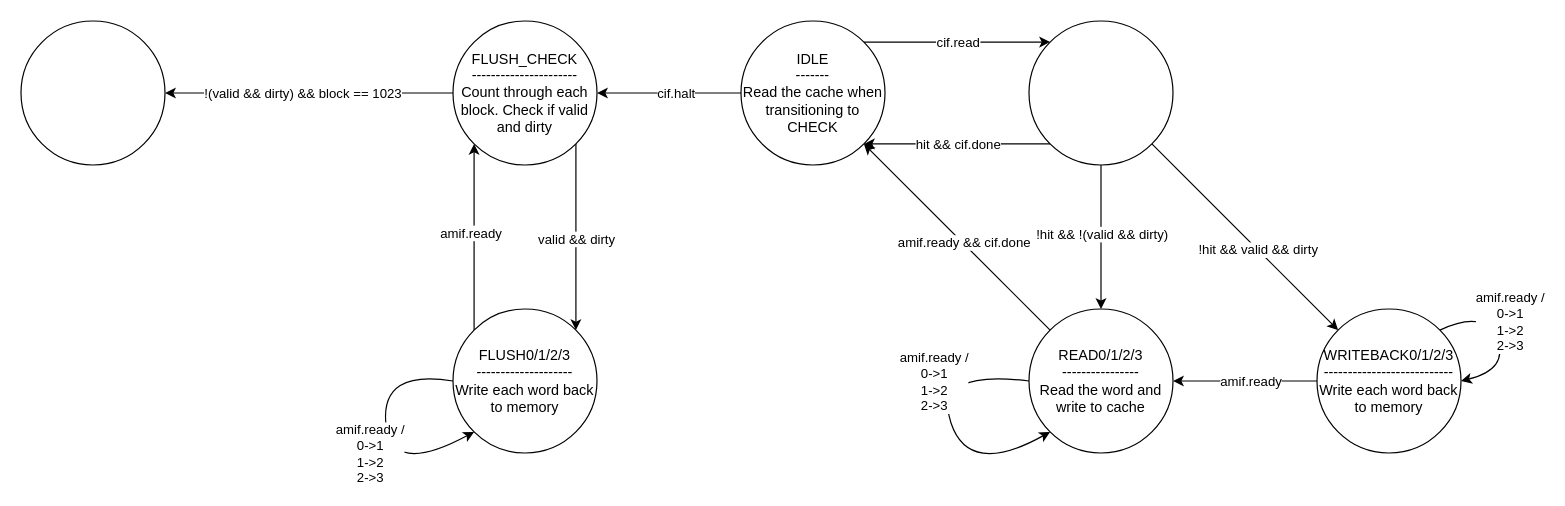
The diagram is 1565 pixels wide and 506 high, and some of its shapes have lost their labels. The shapes that lost their labels are listed below. From the top down, each one's centre as x and y in pixels, then its label:
the point at 92,92: FLUSH_DONE ------------------- cif.flushed = 1
the point at 1100,92: CHECK ----------- Check hit, complete transaction or go to READ
